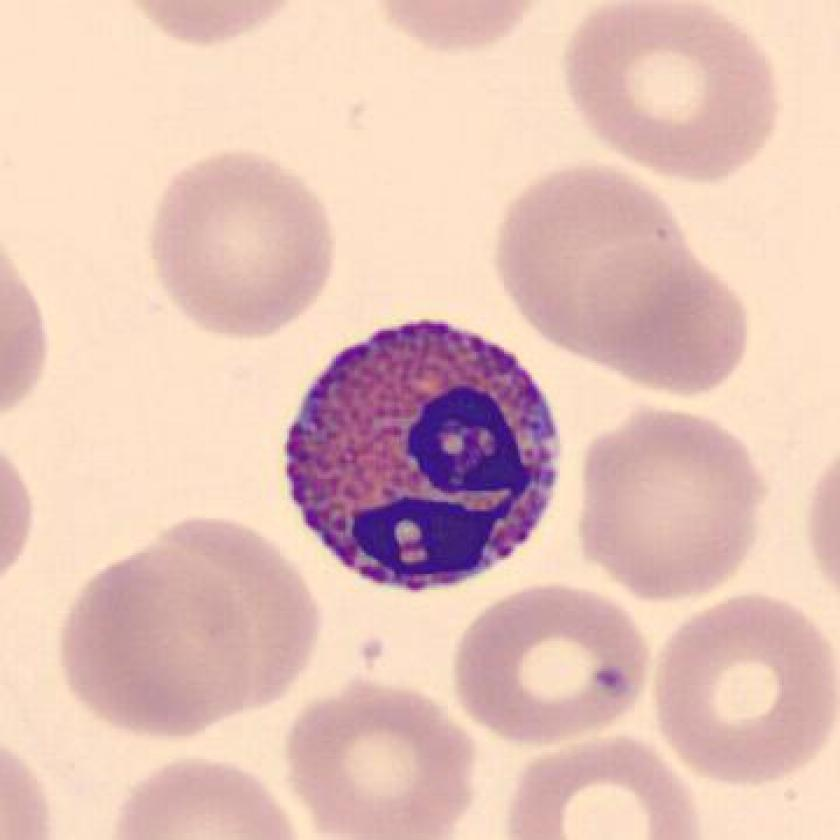eosinophil: (270, 302, 571, 610)
